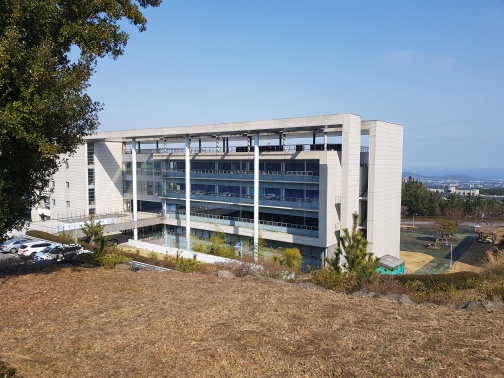Engineering College Building 4: (133, 127, 398, 261), (336, 118, 402, 273), (41, 134, 129, 232)
